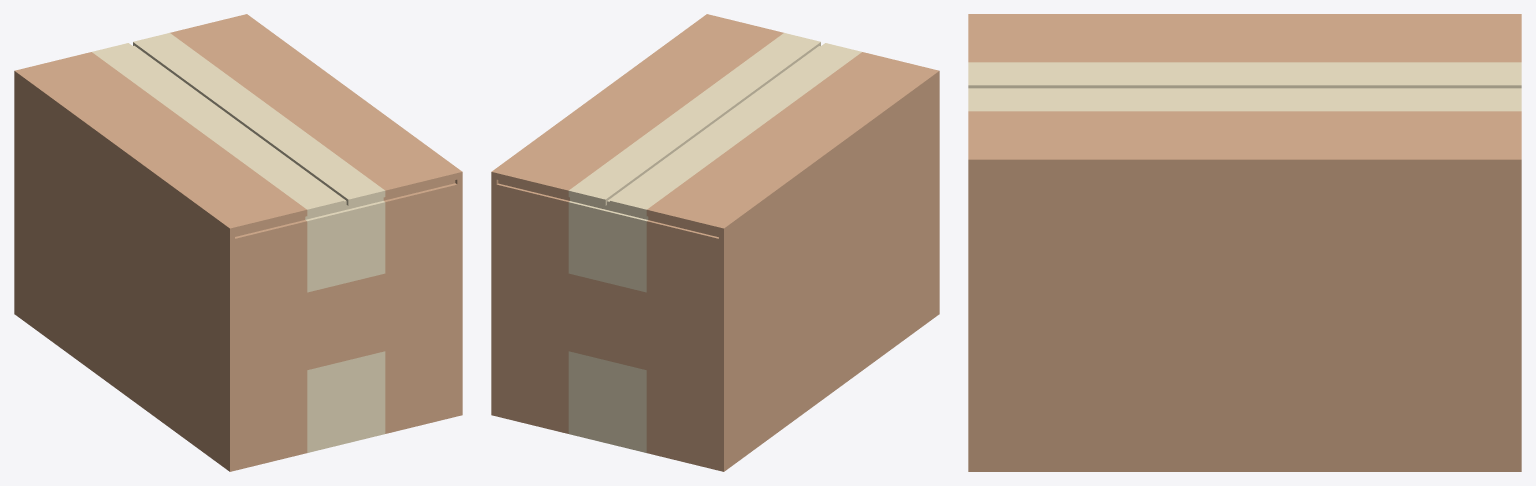
The model's file is box closed.fbx.
3 views of the same model, side by side, from view 1: azimuth 30°, elevation 25°; view 2: azimuth 150°, elevation 25°; view 3: azimuth 270°, elevation 25° (orthographic). The views are drawn at different scales.
Parts seen in each view (by area): view 1: Cube; view 2: Cube; view 3: Cube.
Part boxes in pixels (<box>): Cube: <box>14,14,462,471</box>; Cube: <box>491,14,939,471</box>; Cube: <box>968,14,1521,471</box>.
Size of the model in its own units: 123 by 123 by 198.
